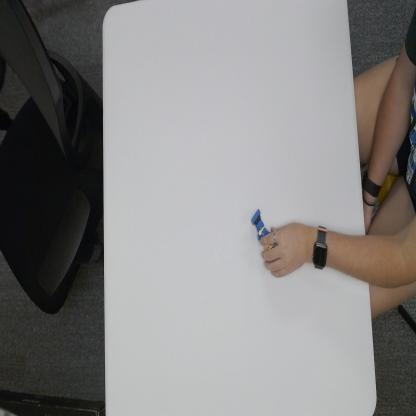Arm: (331, 228, 416, 286)
Hand: (263, 223, 310, 279)
